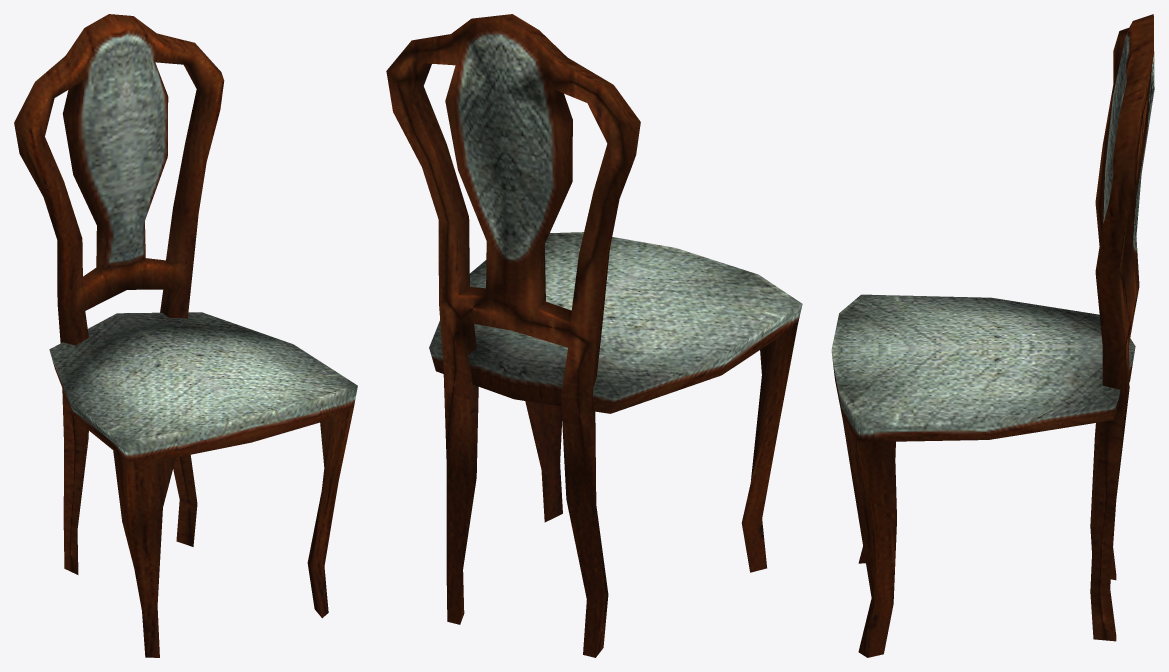
File: chair.gltf
The picture shows the model from 3 angles, left to right: view 1: azimuth 30°, elevation 25°; view 2: azimuth 150°, elevation 25°; view 3: azimuth 270°, elevation 25°; orthographic projection. The views are drawn at different scales.
Visible parts, largest first — view 1: chair01; view 2: chair01; view 3: chair01.
Part boxes in pixels (bbox=[...]): chair01: bbox=[14, 14, 357, 657]; chair01: bbox=[386, 14, 802, 657]; chair01: bbox=[831, 14, 1154, 657].
Size of the model in its own units: 0.9306 by 1.99 by 0.9864.
1 material, 1 textured.
